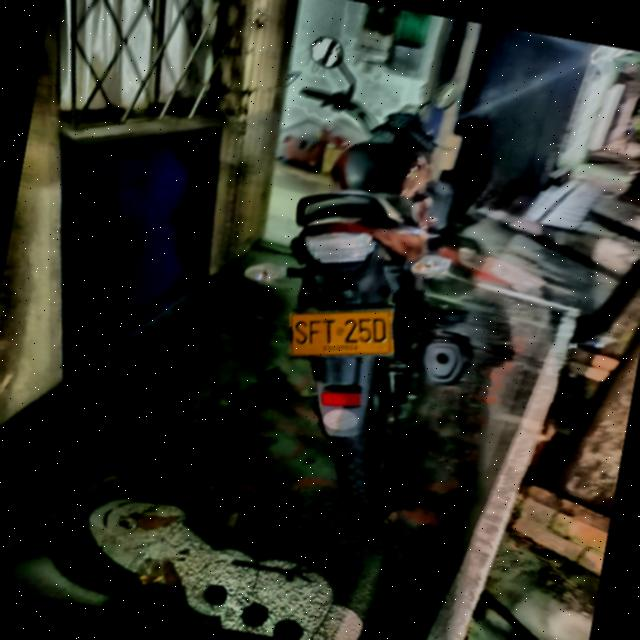2: (343, 318, 359, 344)
5: (357, 316, 372, 345)
D: (371, 316, 388, 344)
F: (307, 318, 321, 345)
S: (294, 319, 308, 345)
T: (321, 318, 336, 345)
